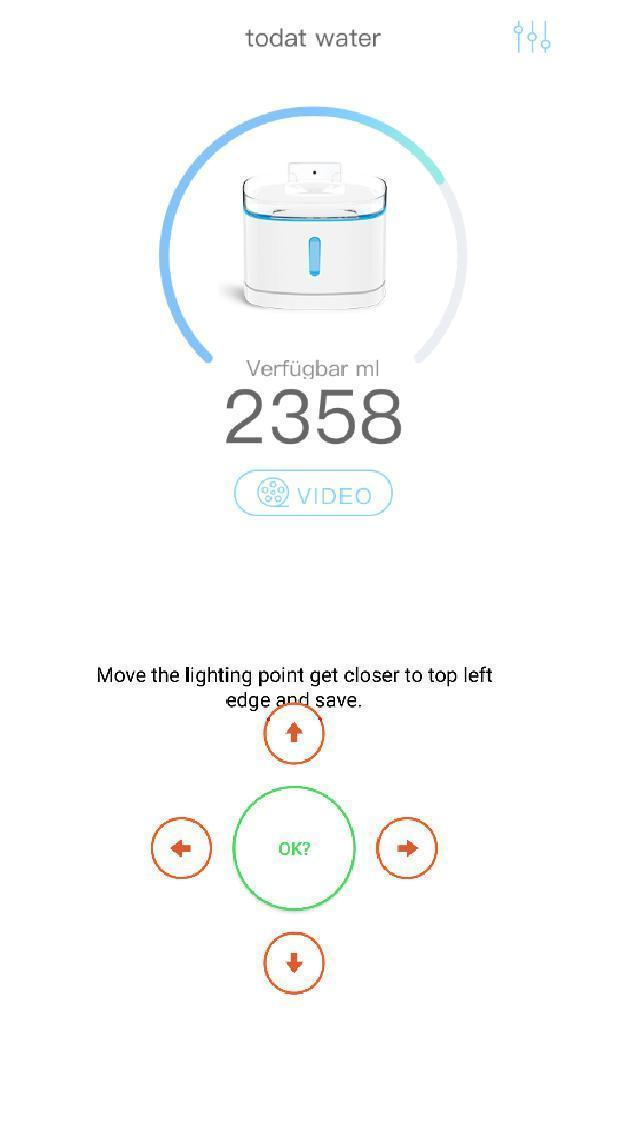Image: (240, 158, 390, 314)
Text: (222, 387, 410, 449), (92, 664, 500, 690), (236, 18, 384, 55), (221, 690, 373, 714)
TextButton: (230, 786, 357, 910), (231, 468, 395, 518), (258, 926, 328, 1000), (260, 700, 328, 768), (151, 816, 213, 882), (376, 816, 440, 879), (286, 162, 342, 190)
WS1: (267, 690, 318, 712)
WS3: (242, 353, 388, 383)
